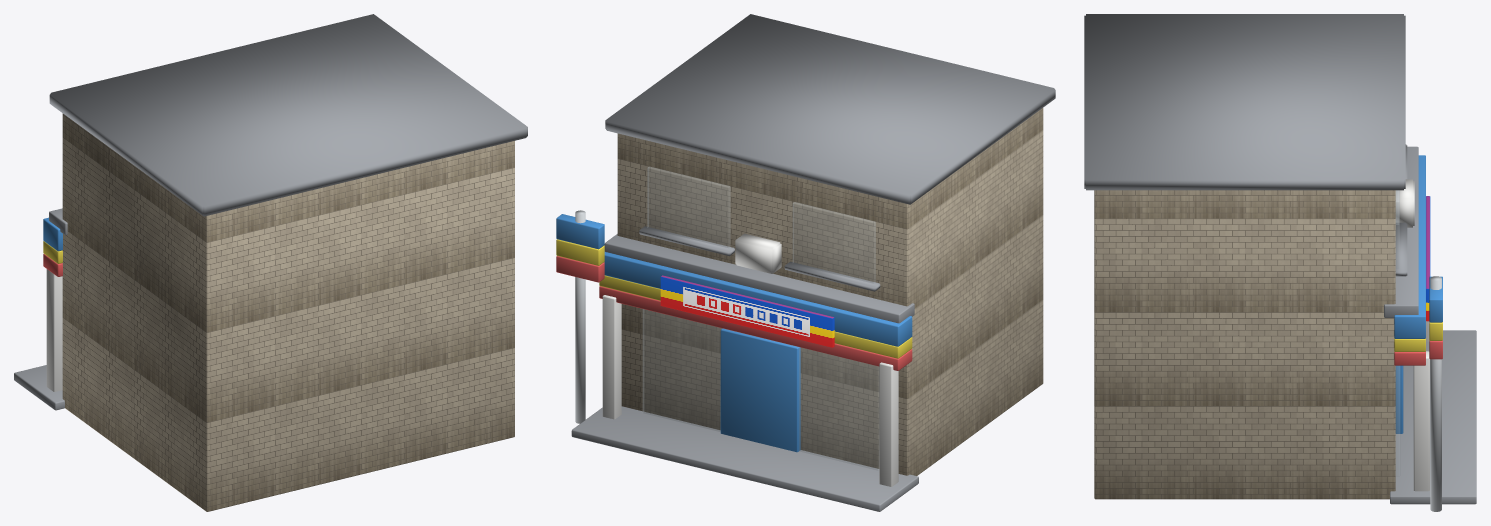
File: ruko_indomaret.glb
3 views of the same model, side by side, from view 1: azimuth 30°, elevation 25°; view 2: azimuth 150°, elevation 25°; view 3: azimuth 270°, elevation 25° (orthographic). The views are drawn at different scales.
Visible parts, largest first — view 1: MainWall, WallTrim_RoofLedge, PillarL, PorchFloor; view 2: MainWall, WallTrim_RoofLedge, StoreFrontGlass, PorchFloor, DoorFrame, UpperBalcony, SignPlaque, UpperWinL, UpperWinR, FasciaBlue, FasciaRed, PillarR (+9 smaller); view 3: MainWall, WallTrim_RoofLedge, PorchFloor, UpperBalcony, PillarR, FasciaBlue, TotemPole, AC_Unit, WallTrim_WinSillR, DoorFrame, SignPlaque, TotemBlue (+2 smaller).
Part boxes in pixels (<box>): MainWall: <box>62,113,514,511</box>; WallTrim_RoofLedge: <box>49,14,527,216</box>; PillarL: <box>46,269,62,391</box>; PorchFloor: <box>14,365,64,410</box>; MainWall: <box>617,108,1043,475</box>; WallTrim_RoofLedge: <box>605,14,1055,204</box>; StoreFrontGlass: <box>642,309,878,470</box>; PorchFloor: <box>571,406,918,511</box>; DoorFrame: <box>720,328,800,452</box>; UpperBalcony: <box>604,234,914,323</box>; SignPlaque: <box>660,275,834,347</box>; UpperWinL: <box>792,202,875,283</box>; UpperWinR: <box>647,167,730,247</box>; FasciaBlue: <box>604,252,912,346</box>; FasciaRed: <box>599,286,912,370</box>; PillarR: <box>602,295,621,419</box>; MainWall: <box>1094,190,1395,499</box>; WallTrim_RoofLedge: <box>1084,14,1405,190</box>; PorchFloor: <box>1390,330,1476,504</box>; UpperBalcony: <box>1384,146,1418,317</box>; PillarR: <box>1413,351,1429,491</box>; FasciaBlue: <box>1394,155,1425,338</box>; TotemPole: <box>1430,276,1441,511</box>; AC_Unit: <box>1395,179,1414,227</box>; WallTrim_WinSillR: <box>1395,222,1407,276</box>; DoorFrame: <box>1395,365,1403,433</box>; SignPlaque: <box>1426,196,1430,321</box>; TotemBlue: <box>1429,276,1442,322</box>.
Size of the model in its own units: 7.47 by 6.2 by 6.78.
Materials: 10 (2 with a texture image).
